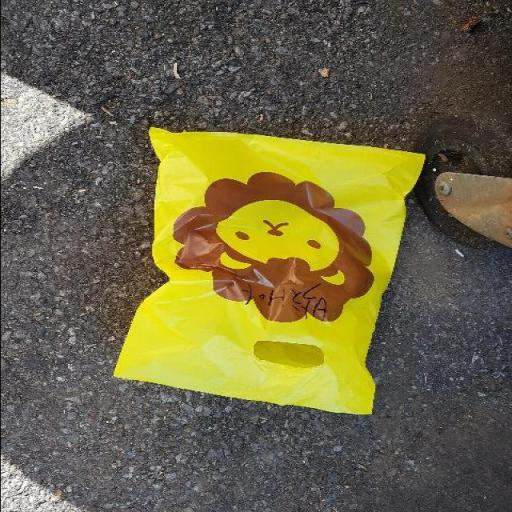plastic-bag: (106, 126, 428, 417)
